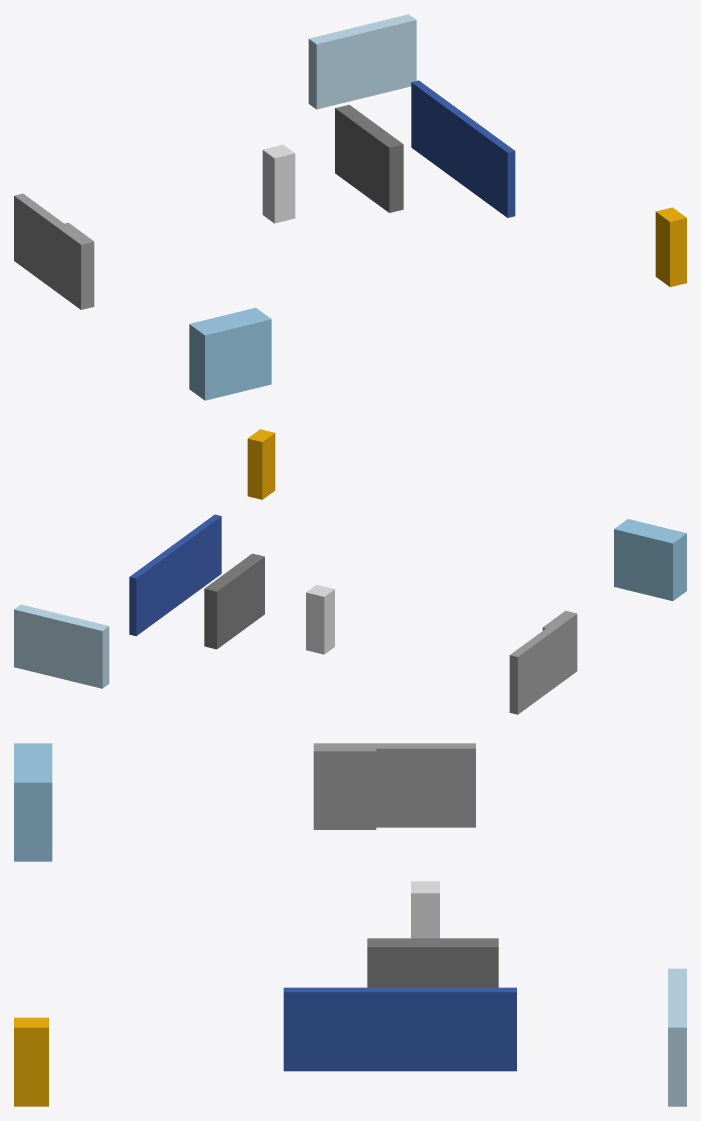
The model's file is NewObstaclesTaller.dae.
The picture shows the model from 3 angles, top to bottom: view 1: azimuth 30°, elevation 25°; view 2: azimuth 150°, elevation 25°; view 3: azimuth 270°, elevation 25°; orthographic projection. The views are drawn at different scales.
Visible parts, largest first — view 1: Part 14, Part 12, Part 10, Part 11, Part 8, Part 13, Part 9; view 2: Part 14, Part 12, Part 10, Part 11, Part 8, Part 13, Part 9; view 3: Part 12, Part 11, Part 8, Part 10, Part 9, Part 14, Part 13.
Boxes of the visible parts, x1,y1,x2,y2 form: Part 14: (308,14,416,109); Part 12: (411,80,515,217); Part 10: (189,307,271,400); Part 11: (14,193,94,309); Part 8: (335,104,403,212); Part 13: (262,144,295,223); Part 9: (655,207,686,287); Part 14: (14,604,109,688); Part 12: (129,514,221,636); Part 10: (614,519,686,600); Part 11: (509,610,577,714); Part 8: (204,553,264,649); Part 13: (306,584,334,654); Part 9: (247,429,275,499); Part 12: (283,987,516,1071); Part 11: (313,743,475,829); Part 8: (367,938,498,987); Part 10: (14,743,52,861); Part 9: (14,1017,48,1106); Part 14: (668,968,686,1106); Part 13: (411,881,439,938).
Bounding box in the file's own units: 34.8 × 34.8 × 4.5.
